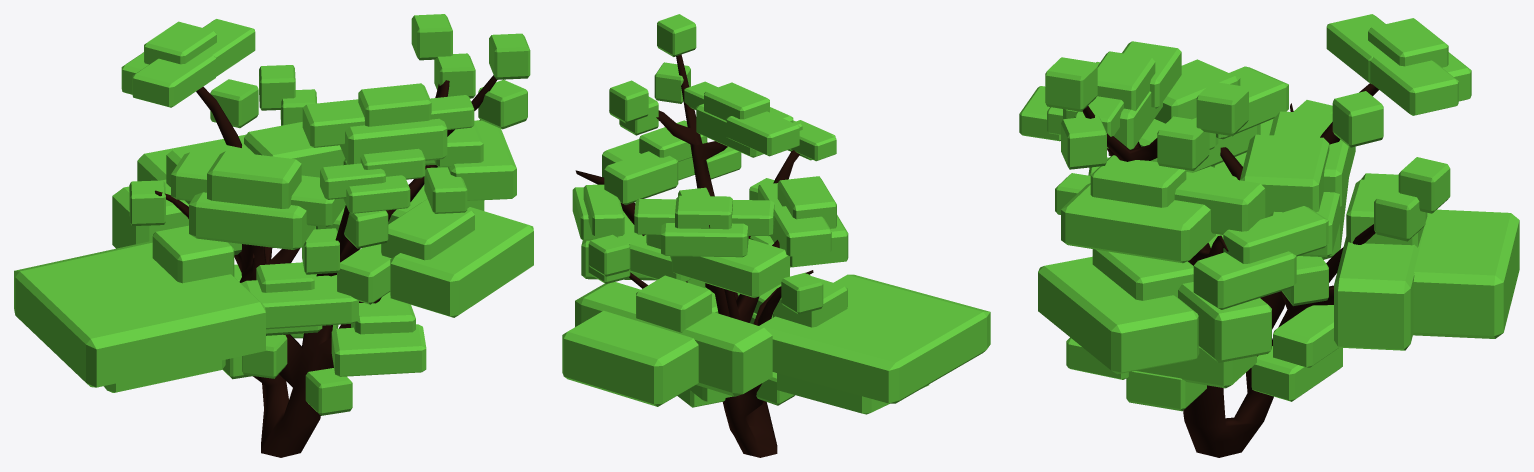
File: cottonwoodPlatform.fbx
3 views of the same model, side by side, from view 1: azimuth 30°, elevation 25°; view 2: azimuth 150°, elevation 25°; view 3: azimuth 270°, elevation 25° (orthographic). The views are drawn at different scales.
Parts seen in each view (by area): view 1: cottonwood; view 2: cottonwood; view 3: cottonwood.
Part boxes in pixels (bbox=[...]): cottonwood: bbox=[14, 14, 533, 457]; cottonwood: bbox=[562, 14, 990, 457]; cottonwood: bbox=[1019, 14, 1519, 457].
Bounding box in the file's own units: 80.99 × 68.78 × 71.46.
